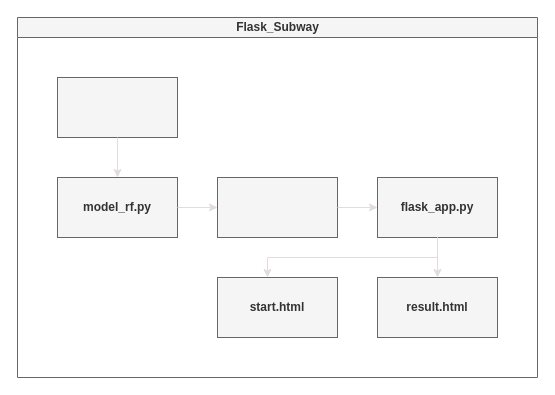
Image size: 555x395. Some labels were removed from this diagram. Each missing label, with the centre of its shape:
"seoul_subway.csv" goes at pixel 117 107.
"subway_rf.pkl" goes at pixel 277 207.
